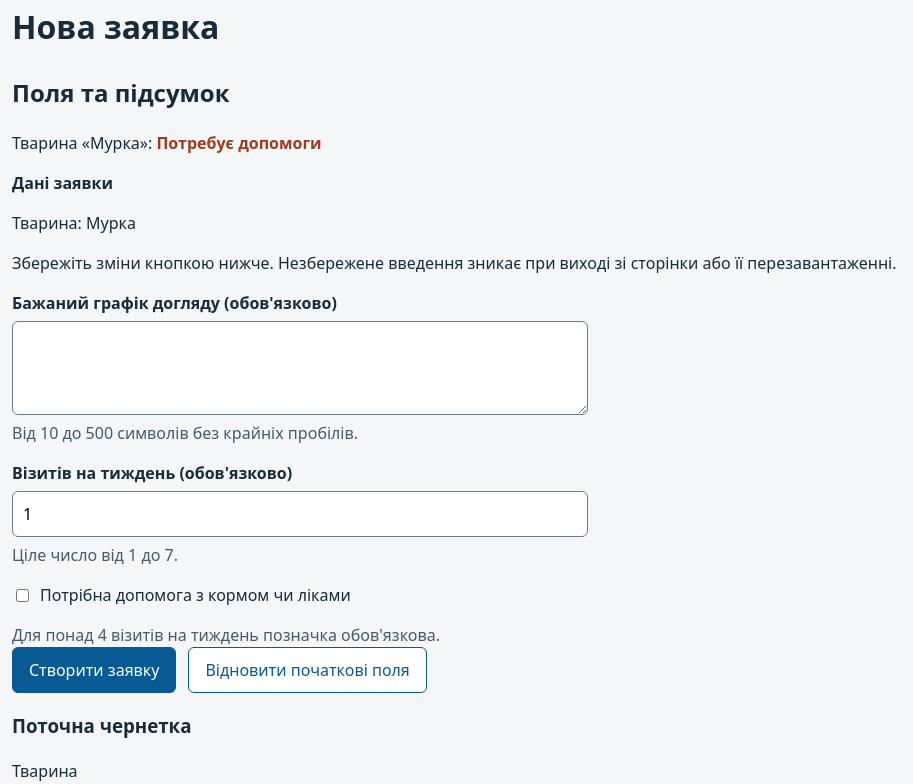
Test: передає нормалізовані поля й блокує повтор до відповіді
Type "Щовихідних зранку годувати кицьку." into the text box labelled "Бажаний графік догляду (обов'язково)".
click(300, 368); type("Щовихідних зранку годувати кицьку.")  # box [12,321,588,415]
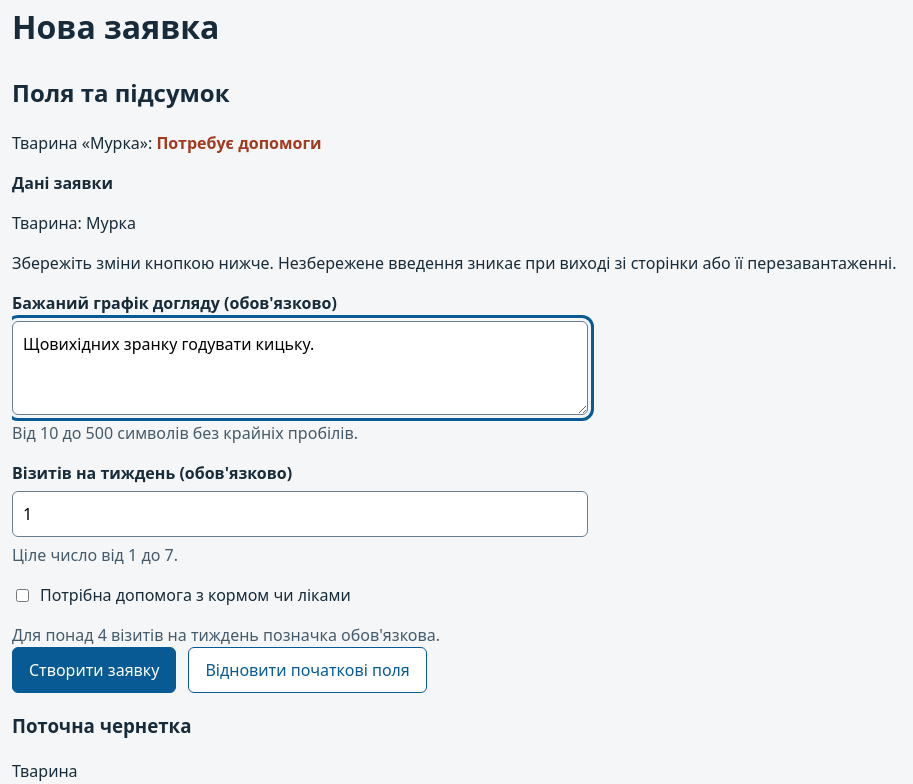
Replace the text in the number field labelled "Візитів на тиждень (обов'язково)" with "2" at (300, 514), box [12,491,588,537]
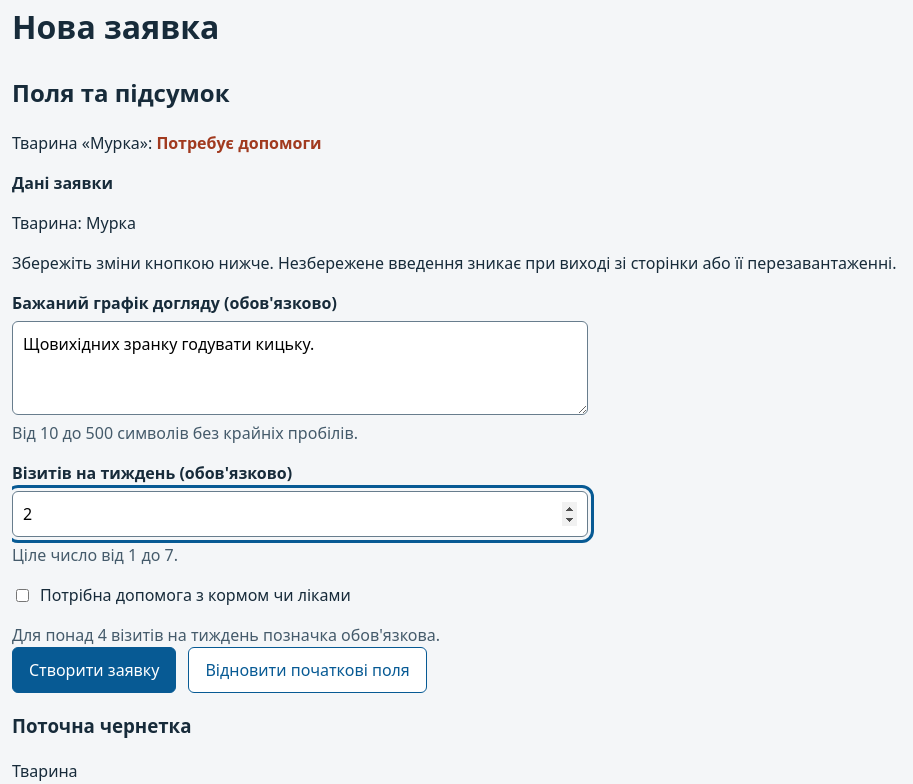
Click the checkbox labelled "Потрібна допомога з кормом чи ліками".
click(22, 595)  # box [16,589,29,602]
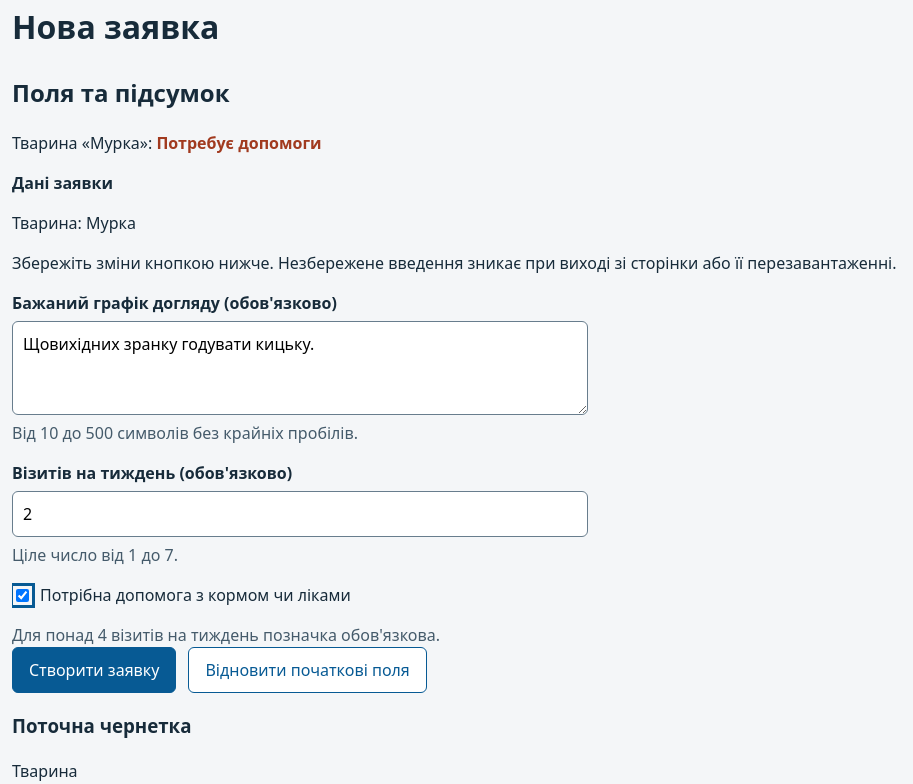
Click the button "Створити заявку".
click(94, 670)  # box [12,647,176,693]
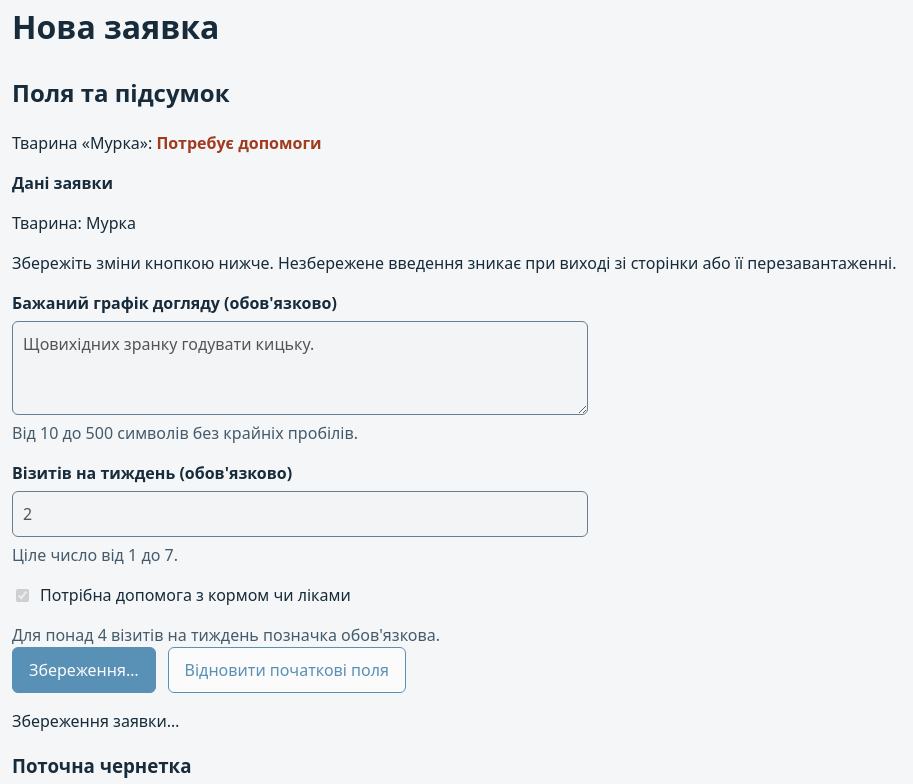
expect the text box labelled "Бажаний графік догляду (обов'язково)" is disabled: met, box [12,321,588,415]
expect the button "Збереження…" is disabled: met
Click the button "Збереження…".
click(84, 670)  # box [12,647,156,693]
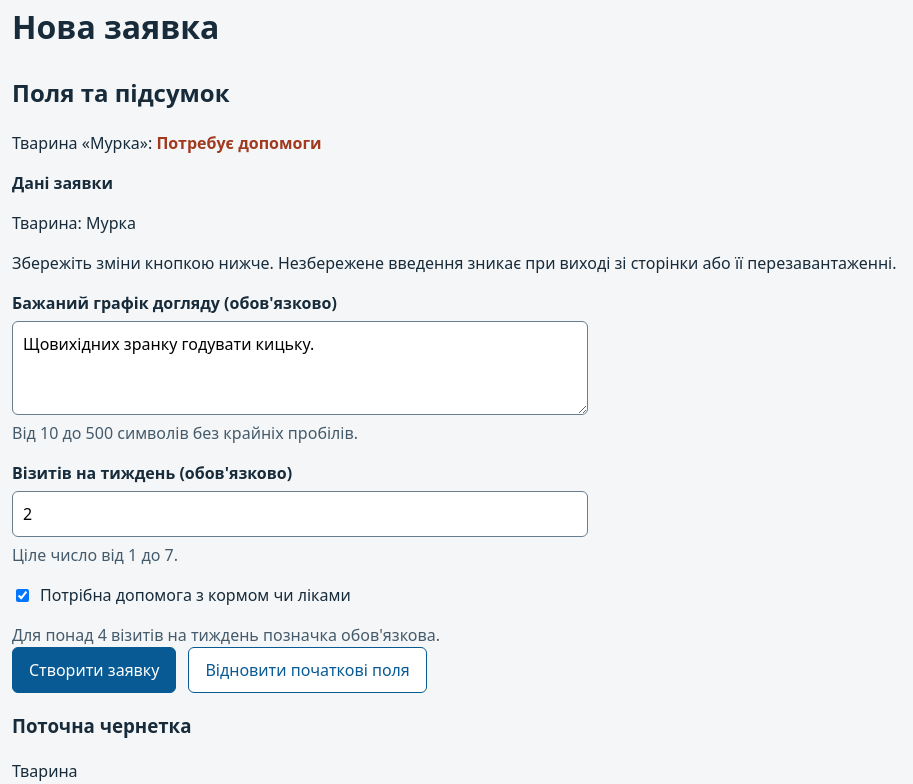
expect the button "Створити заявку" is enabled: met, box [12,647,176,693]
